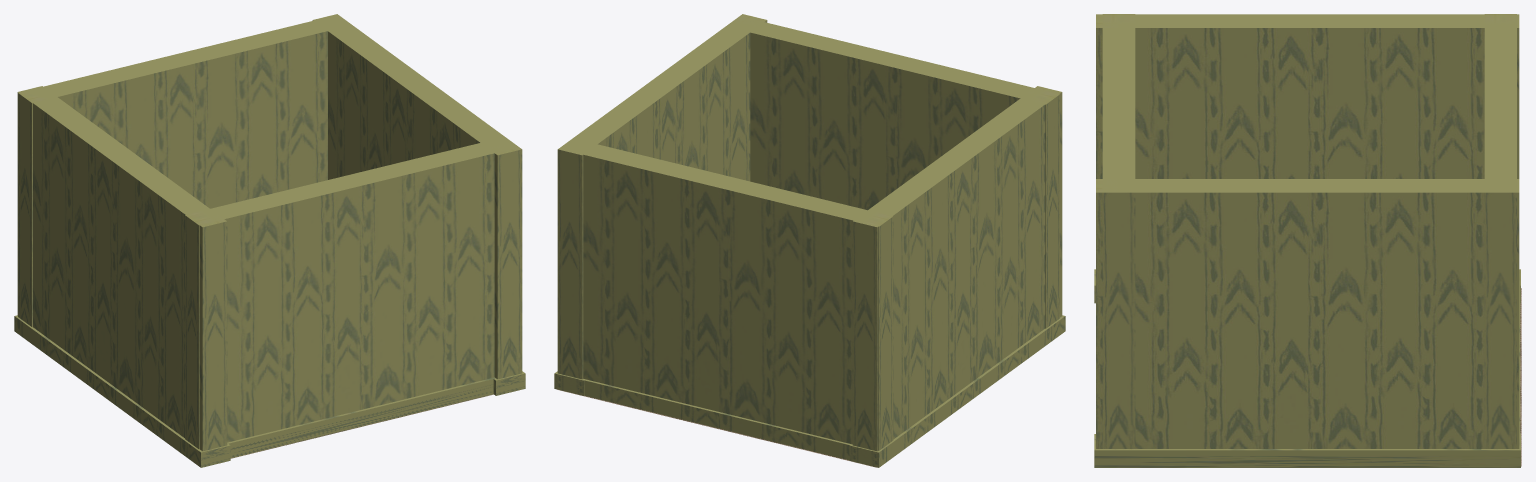
Rendered from Barrier.fbx.
3 renders of one model, left to right at view 1: azimuth 30°, elevation 25°; view 2: azimuth 150°, elevation 25°; view 3: azimuth 270°, elevation 25°, orthographic. The views are drawn at different scales.
Visible parts, largest first — view 1: Wall.001, Wall.003, Wall, Wall.002; view 2: Wall, Wall.003, Wall.001, Wall.002; view 3: Wall.002, Wall.003, Wall.001, Wall.
Part boxes in pixels (bbox=[...]): Wall.001: bbox=[184, 137, 518, 458]; Wall.003: bbox=[14, 86, 230, 467]; Wall: bbox=[18, 15, 351, 328]; Wall.002: bbox=[312, 14, 525, 395]; Wall: bbox=[556, 138, 894, 460]; Wall.003: bbox=[849, 86, 1065, 467]; Wall.001: bbox=[727, 16, 1059, 329]; Wall.002: bbox=[554, 14, 767, 395]; Wall.002: bbox=[1094, 179, 1520, 467]; Wall.003: bbox=[1094, 14, 1520, 303]; Wall.001: bbox=[1099, 14, 1138, 449]; Wall: bbox=[1481, 14, 1520, 449].
Size of the model in its own units: 1418 by 1000 by 1415.
